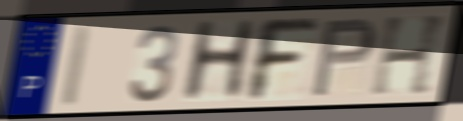3: (128, 22, 181, 104)
F: (246, 16, 321, 104)
H: (368, 12, 452, 99), (177, 17, 260, 105)
I: (56, 23, 96, 109)
P: (308, 16, 378, 100)
